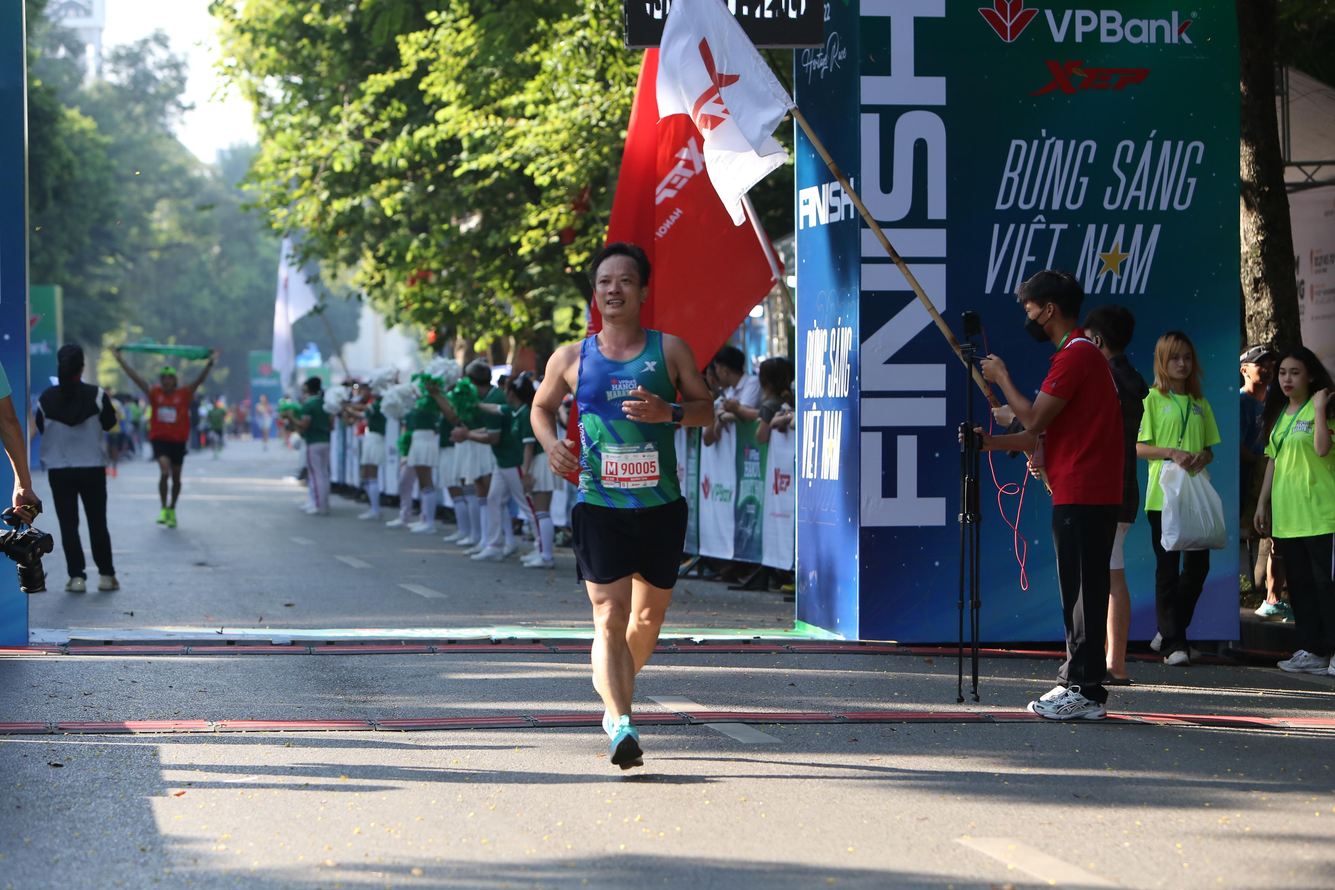bib: (601, 442, 661, 490), (158, 405, 176, 422)
